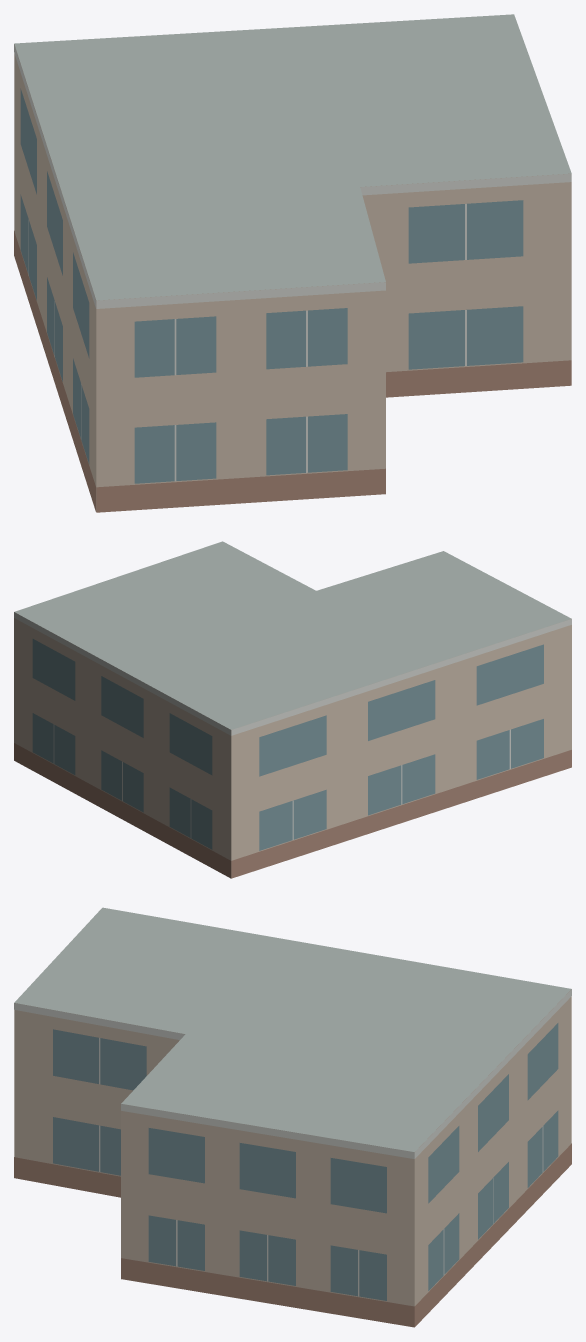
File: survey-upis-32672920.glb
3 views of the same model, one above another, from view 1: azimuth 30°, elevation 25°; view 2: azimuth 150°, elevation 25°; view 3: azimuth 270°, elevation 25° (orthographic). The views are drawn at different scales.
Visible parts, largest first — view 1: survey-upis-32672920.tmp; view 2: survey-upis-32672920.tmp; view 3: survey-upis-32672920.tmp.
Boxes of the visible parts, <box> form: survey-upis-32672920.tmp: <box>14,14,571,512</box>; survey-upis-32672920.tmp: <box>14,541,571,878</box>; survey-upis-32672920.tmp: <box>14,907,571,1327</box>.
Size of the model in its own units: 18.27 by 6.1 by 17.6.
